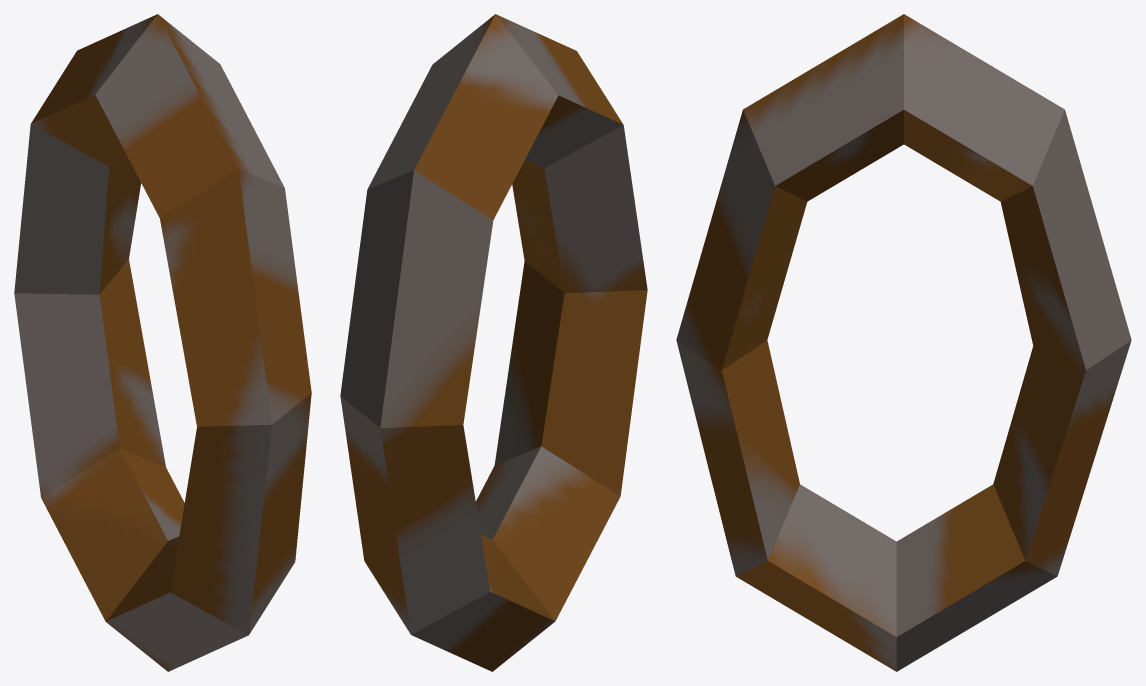
File: sm_chain_link.glb
3 views of the same model, side by side, from view 1: azimuth 30°, elevation 25°; view 2: azimuth 150°, elevation 25°; view 3: azimuth 270°, elevation 25° (orthographic).
Visible parts, largest first — view 1: Toróide; view 2: Toróide; view 3: Toróide.
Part boxes in pixels (left/top/right/bottom): Toróide: left=14, top=14, right=311, bottom=671; Toróide: left=340, top=14, right=647, bottom=671; Toróide: left=676, top=14, right=1131, bottom=671.
Size of the model in its own units: 0.5161 by 2.46 by 1.55.
Materials: 1 (1 with a texture image).
